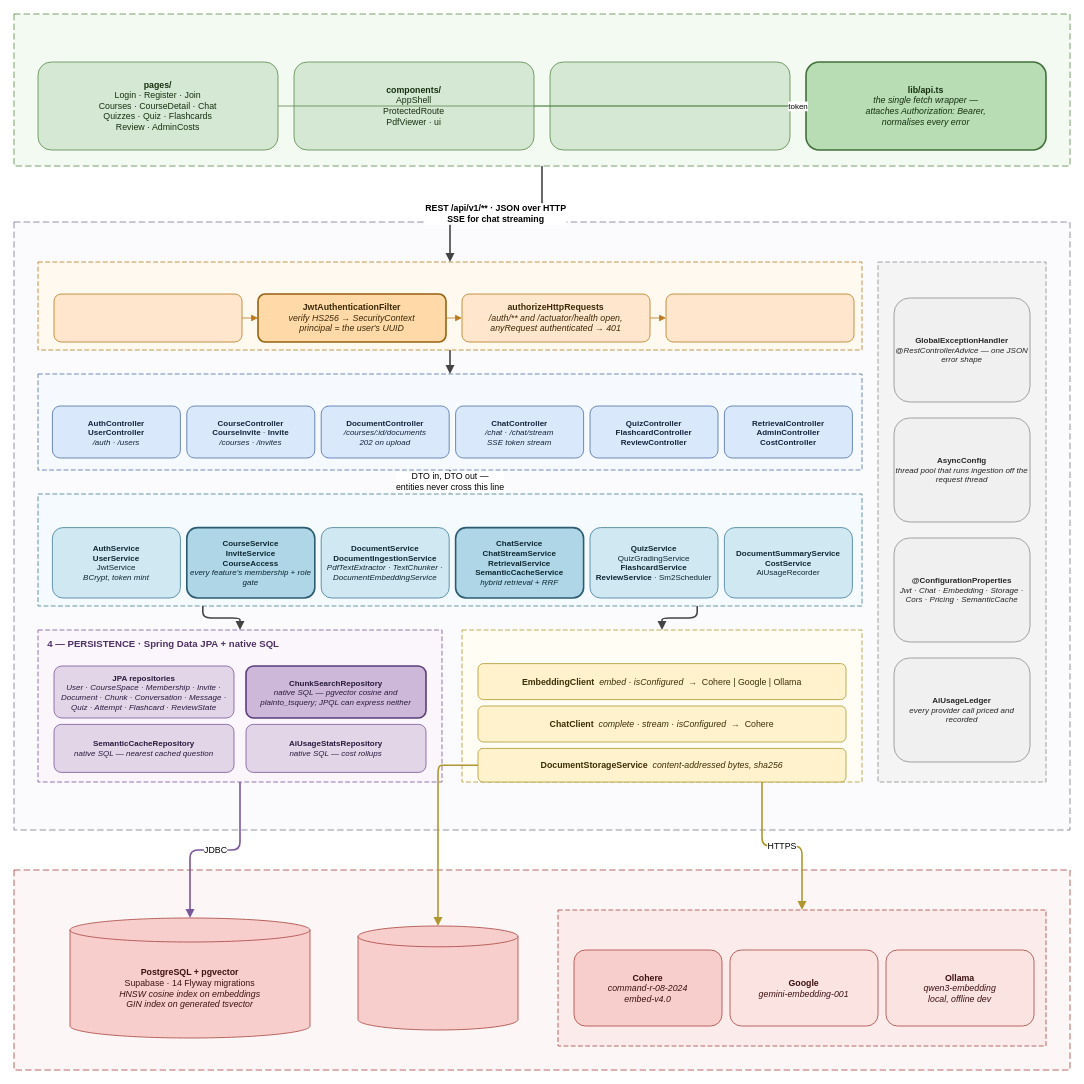
Image size: 1084x1084. Some labels were removed from this diagram. The box of each missing label's shape, as (x1, y1, x2, y2) in pixels:
1 — SECURITY FILTER CHAIN · stateless, no sessions: (37, 261, 862, 350)
2 — WEB LAYER · @RestController — HTTP shape only, zero business rules: (37, 373, 862, 470)
3 — SERVICE LAYER · @Service — business rules and the @Transactional boundary: (37, 493, 862, 606)
5 — PROVIDER PORTS · interfaces, so no service names a vendor: (461, 629, 862, 782)
@EnableMethodSecurity @PreAuthorize ADMIN on /admin and /admin/costs: (665, 293, 854, 342)
CLIENT — React 19 + TypeScript SPA, bundled by Vite: (13, 13, 1070, 166)
CORS allowed origins from config; preflight cached 1h: (53, 293, 242, 342)
CROSS-CUTTING every request: (877, 261, 1046, 782)
external AI providers — swappable adapters: (557, 909, 1046, 1046)
INFRASTRUCTURE: (13, 869, 1070, 1070)
lib/auth.tsx React context; JWT + user kept in localStorage: (549, 61, 790, 150)
local filesystem PDF bytes at courseId/sha256: (357, 925, 518, 1030)
SPRING BOOT 3 · Java 21 — one deployable, packaged by feature not by layer: (13, 221, 1070, 830)
